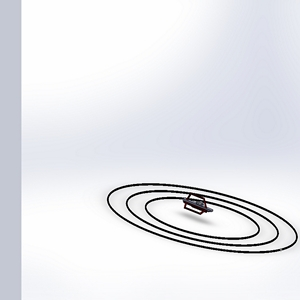circle: (94, 178, 298, 259)
submarine: (177, 191, 217, 219)
